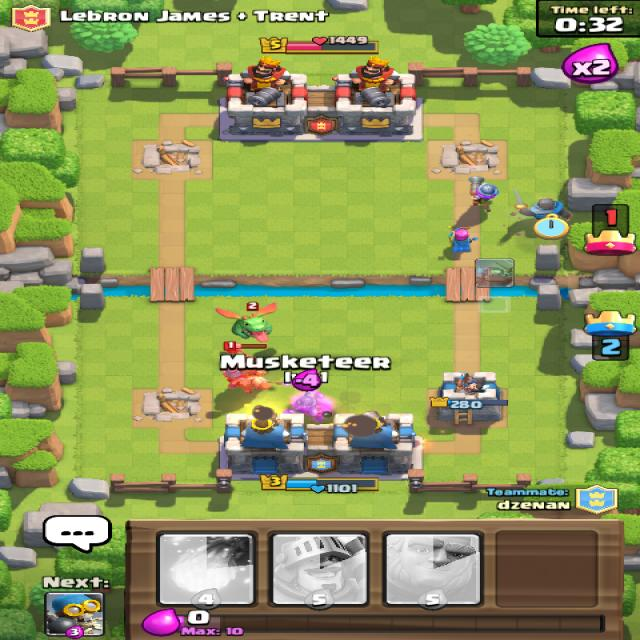Enemy-BabyDragon: (212, 301, 279, 342)
Enemy-Prince: (217, 341, 272, 394)
Player-Archer: (444, 224, 479, 254)
Player-Knight: (512, 186, 573, 222)
Player-Musketeer: (467, 174, 497, 212)
